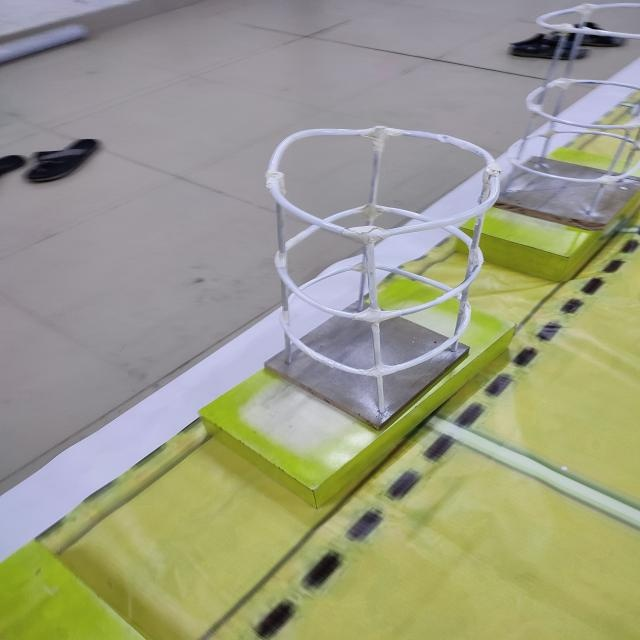silo: (259, 129, 499, 408), (474, 0, 640, 221)
